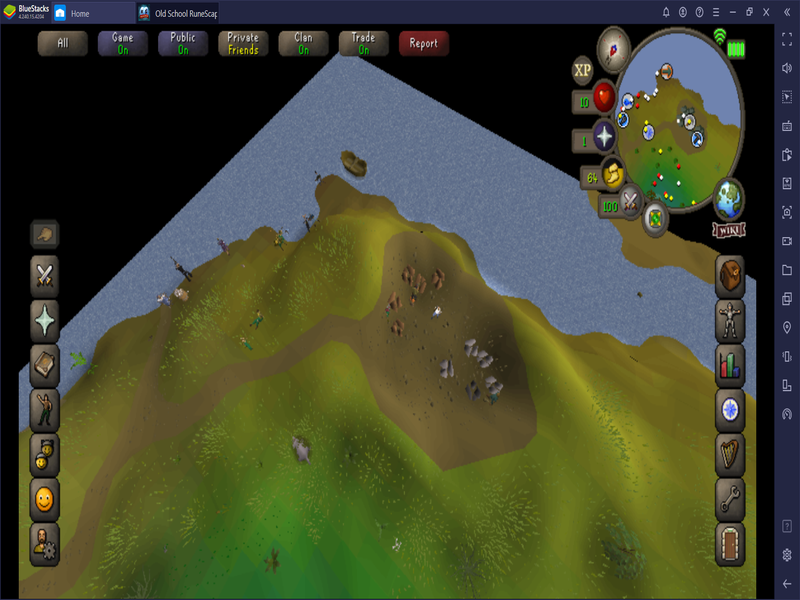copper_rock_1: (390, 317, 406, 337)
copper_rock_2: (387, 290, 404, 313)
